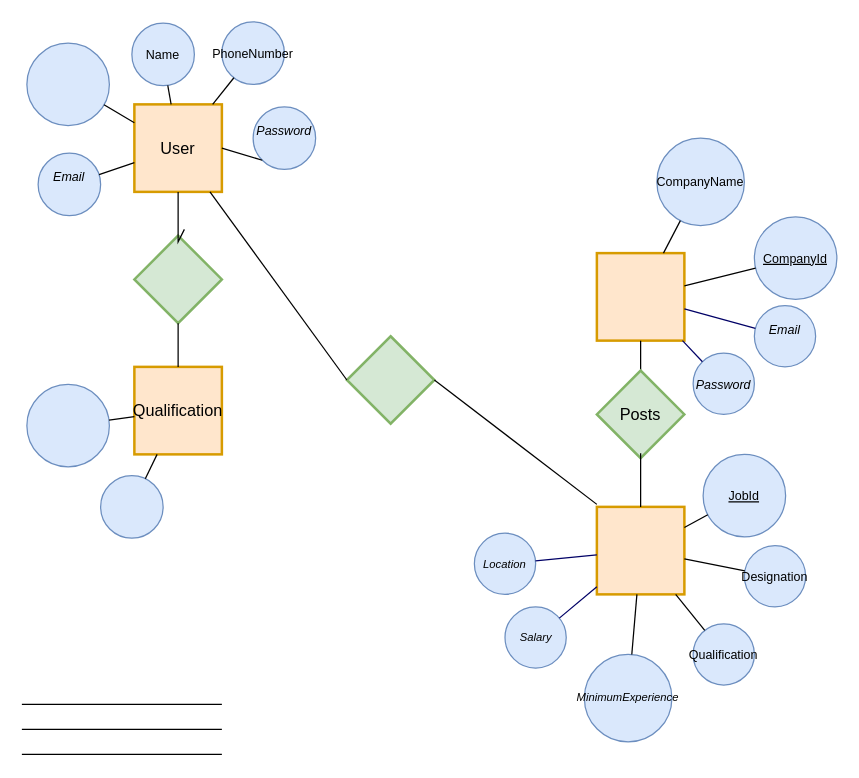
Image size: 859x778. Some labels were removed from this diagram. The centre of each missing label's shape, as x and y in pixels:
Applies: the point at 390,379
Cgpa: the point at 131,506
Company: the point at 640,296
Degree: the point at 67,425
Has: the point at 177,279
Job: the point at 640,550
UserID: the point at 67,84
